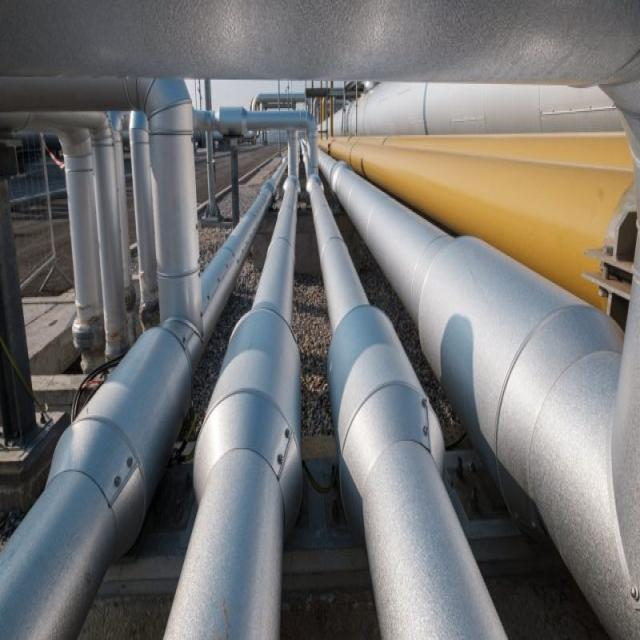gas: (317, 150, 623, 627), (325, 137, 628, 312), (171, 372, 299, 640), (341, 441, 513, 638), (1, 401, 134, 640), (332, 303, 438, 441), (140, 81, 198, 333), (102, 307, 198, 457), (60, 134, 104, 354), (89, 128, 130, 354), (226, 259, 300, 380), (202, 196, 250, 314), (318, 229, 374, 311), (216, 111, 317, 136), (266, 192, 300, 257), (308, 178, 338, 236), (243, 171, 273, 223)
